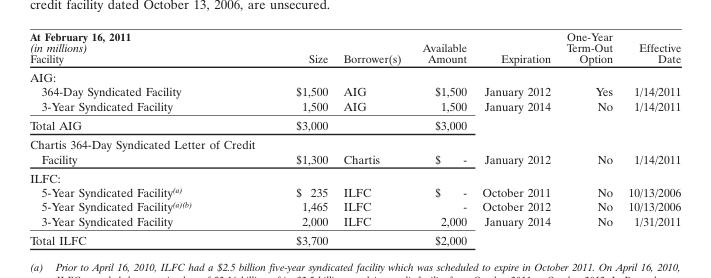table: (29, 29, 680, 246)
table column: (29, 29, 274, 246), (473, 29, 557, 246), (335, 29, 411, 246), (411, 29, 473, 246), (557, 29, 619, 246), (274, 29, 335, 246), (619, 29, 680, 246)
table column header: (29, 29, 680, 67)
table projected row header: (29, 67, 680, 84), (29, 168, 680, 184)
table row: (29, 29, 680, 67), (29, 134, 680, 168), (29, 115, 680, 134), (29, 67, 680, 84), (29, 98, 680, 115), (29, 213, 680, 230), (29, 168, 680, 184), (29, 230, 680, 246), (29, 184, 680, 199), (29, 84, 680, 98), (29, 199, 680, 213)
